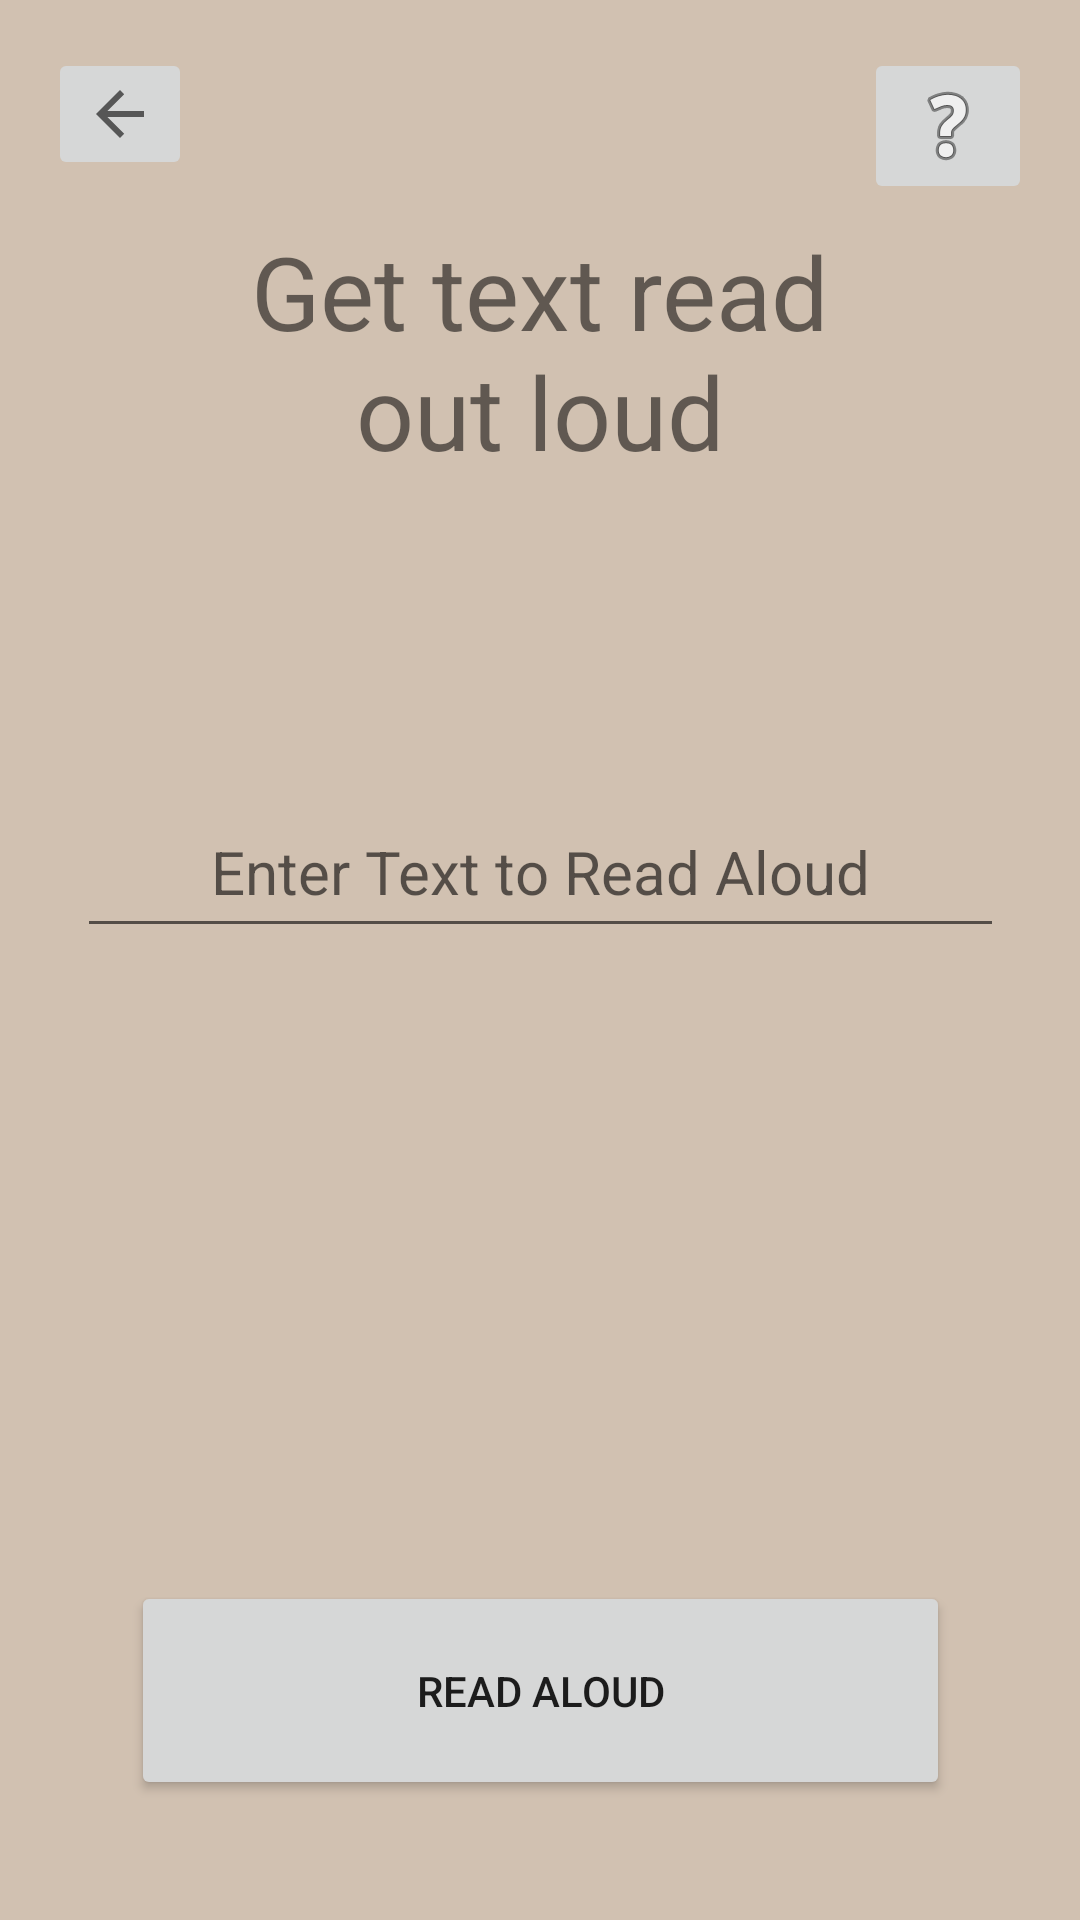

Screen size 1080px x 1920px. Icon name, then its center in pixels as [x,y]:
help: [948,126]
